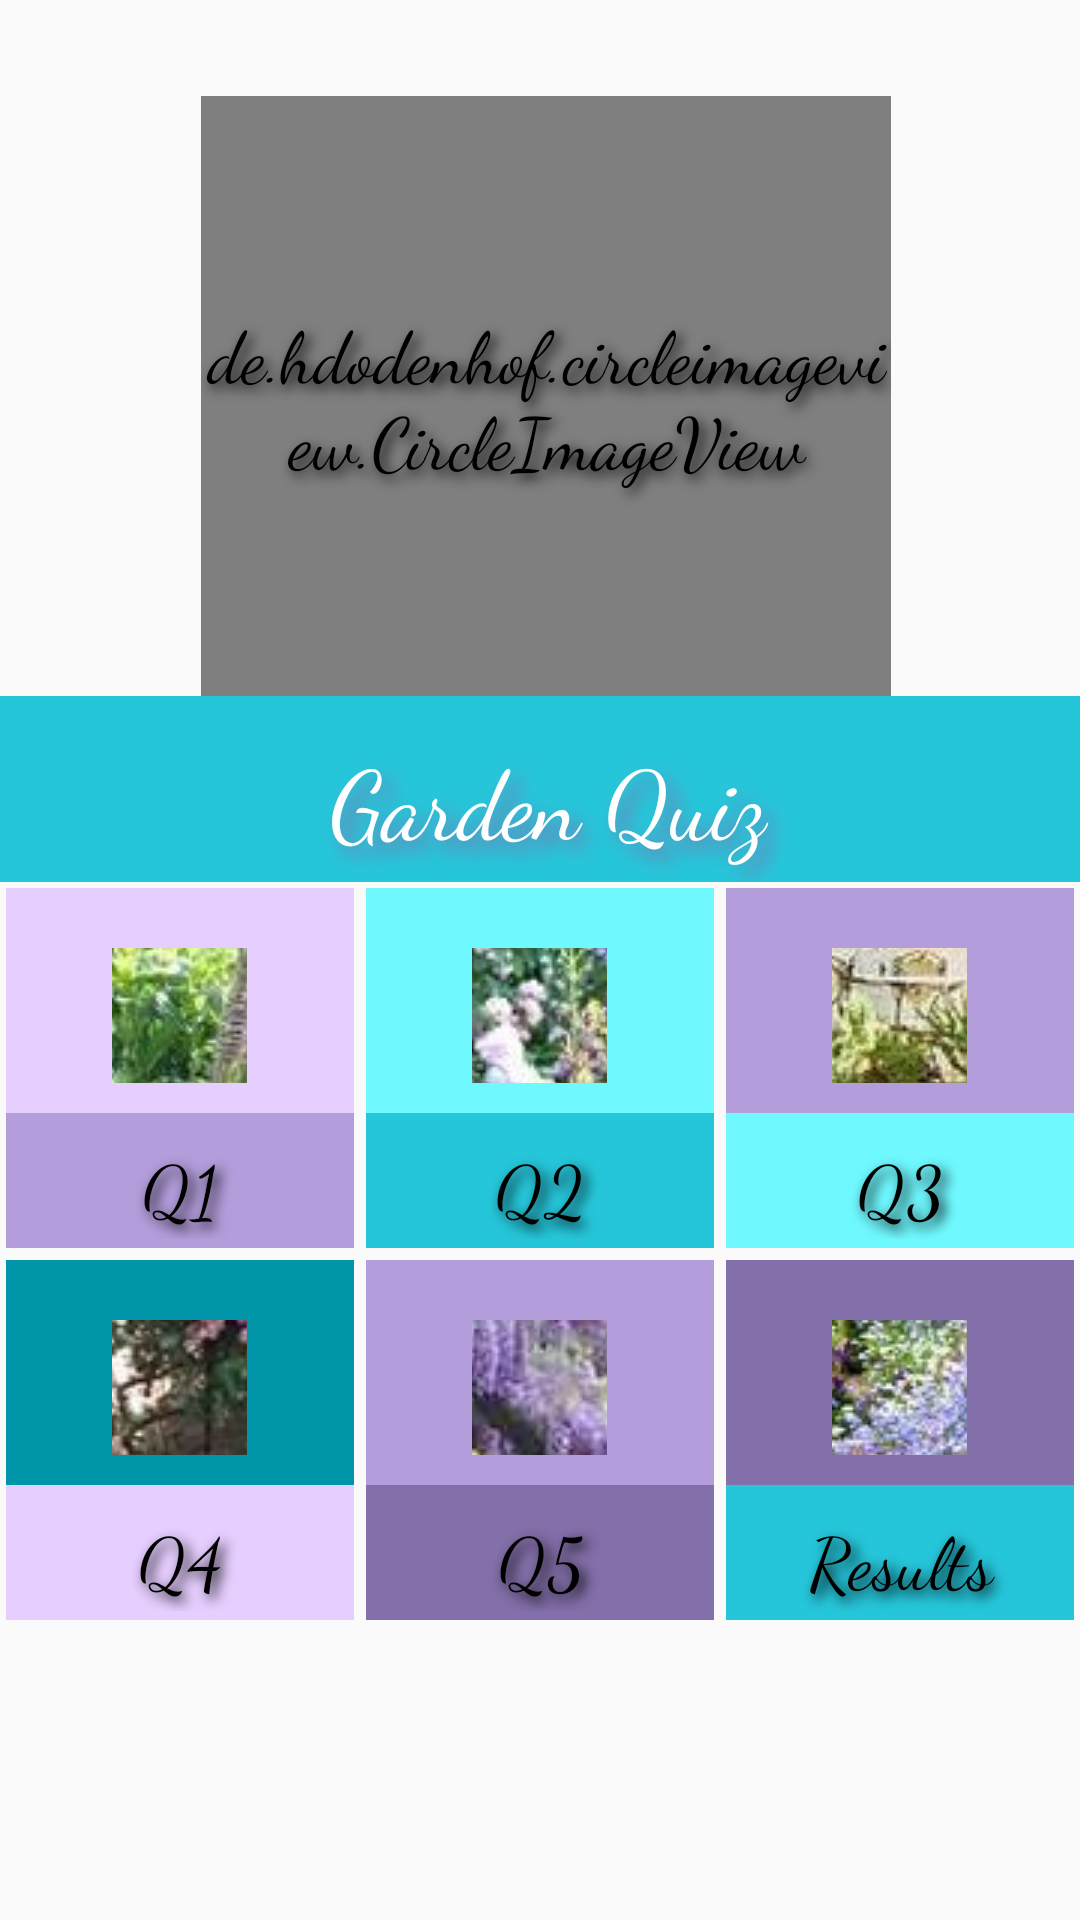

Icon bounding boxes for this 1080×1920 phone screenshot, format (x1, y1, x2, y2):
garden2: (472, 948, 607, 1083)
garden3: (832, 948, 967, 1083)
garden4: (112, 1320, 247, 1455)
garden5: (472, 1320, 607, 1455)
